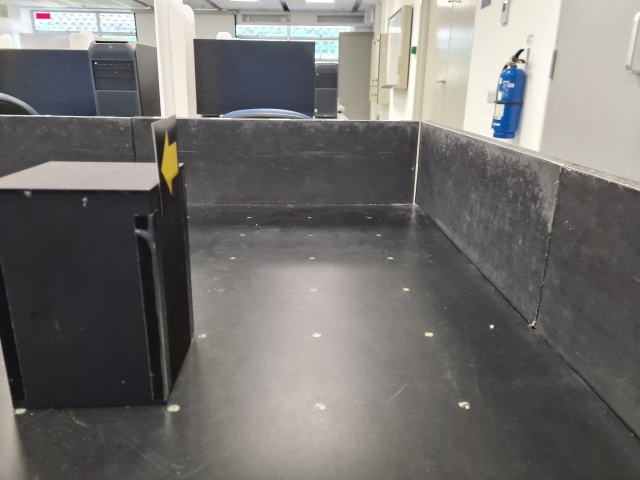right_arrow: (151, 113, 186, 219)
